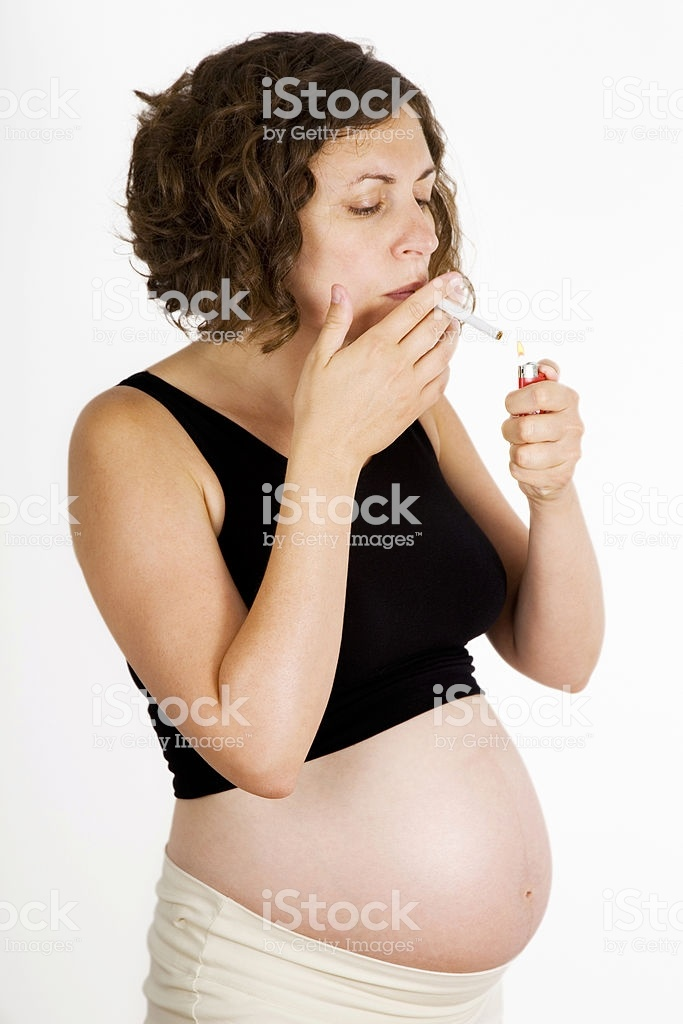sigaretta: (430, 295, 506, 352)
